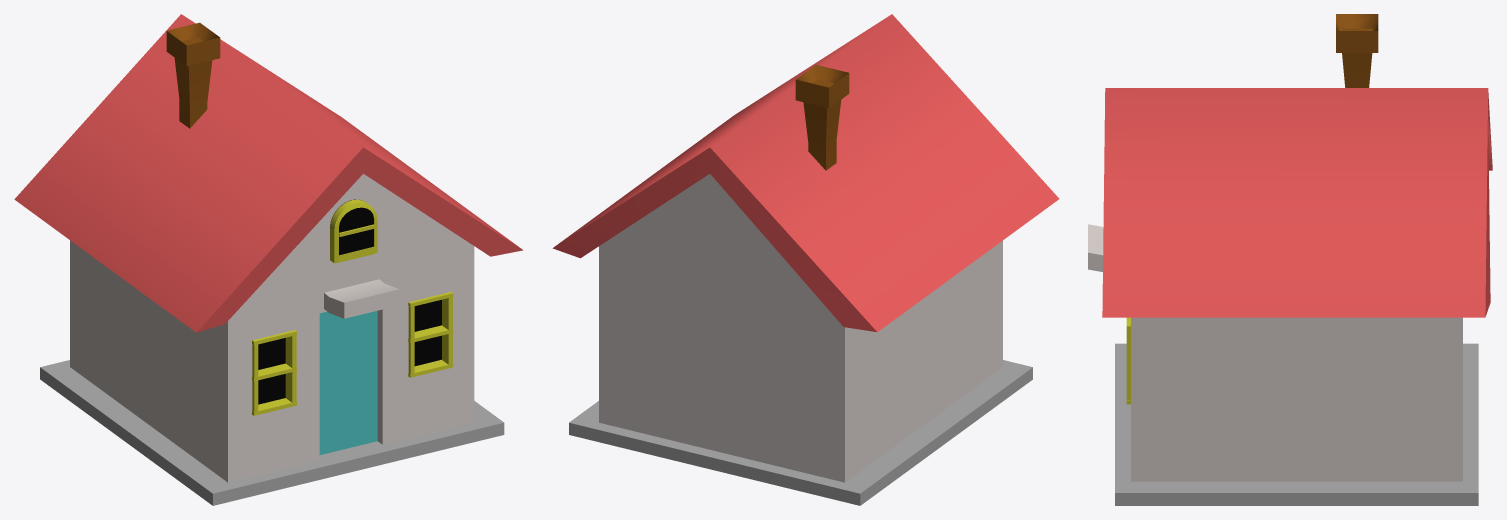
The model's file is house 1.fbx.
The picture shows the model from 3 angles, left to right: view 1: azimuth 30°, elevation 25°; view 2: azimuth 150°, elevation 25°; view 3: azimuth 270°, elevation 25°; orthographic projection. The views are drawn at different scales.
Parts seen in each view (by area): view 1: house, roof, house_base, chimney, window_sill_left, window_sill_right, mantle, top_window, window_sill; view 2: house, roof, house_base, chimney; view 3: roof, house, house_base, chimney, mantle.
Boxes of the visible parts, x1,y1,x2,y2 form: house: (70,174,474,482); roof: (14,14,522,332); house_base: (40,360,504,505); chimney: (166,22,220,128); window_sill_left: (252,330,296,415); window_sill_right: (408,292,453,377); mantle: (324,279,399,318); top_window: (330,199,373,255); window_sill: (330,199,377,263); house: (599,174,1002,482); roof: (552,14,1059,332); house_base: (569,360,1032,505); chimney: (795,65,849,170); roof: (1102,88,1492,317); house: (1131,317,1462,481); house_base: (1115,343,1478,505); chimney: (1336,14,1378,87); mantle: (1088,224,1103,271).
Bounding box in the file's own units: 27.91 × 29.78 × 28.52.
